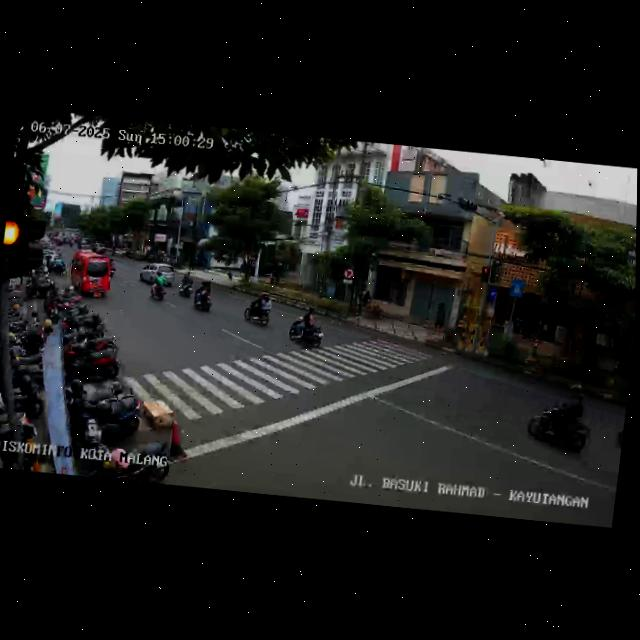car: (67, 251, 114, 300), (137, 260, 175, 285), (41, 251, 68, 275)
motorcycle: (526, 388, 595, 459), (285, 308, 326, 351), (241, 290, 275, 330), (191, 278, 216, 313), (148, 273, 168, 304), (178, 269, 194, 296)
